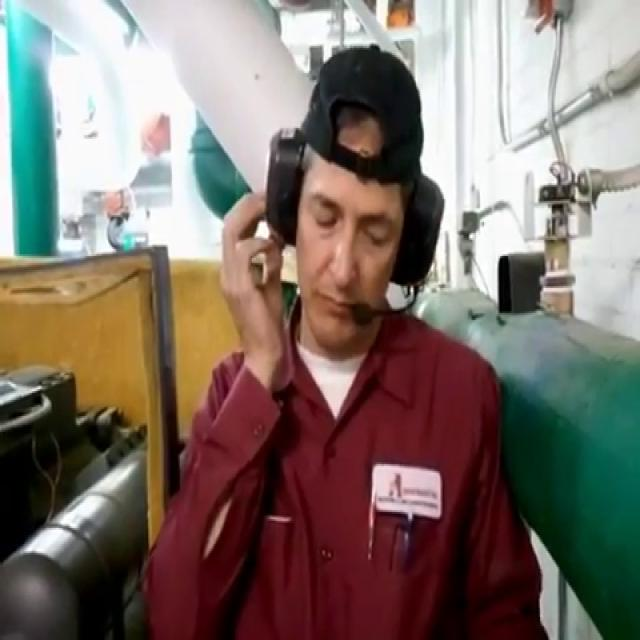earmuff: (383, 174, 448, 294), (260, 120, 310, 254)
